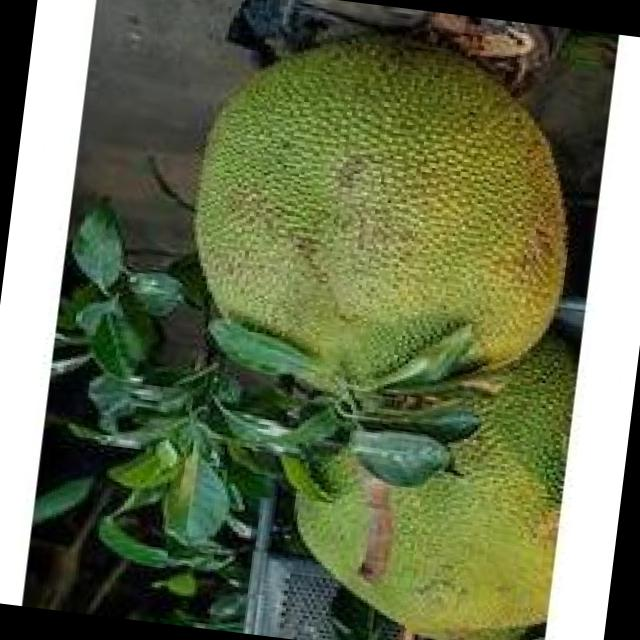Fruit: (148, 0, 612, 435), (353, 237, 593, 640)
